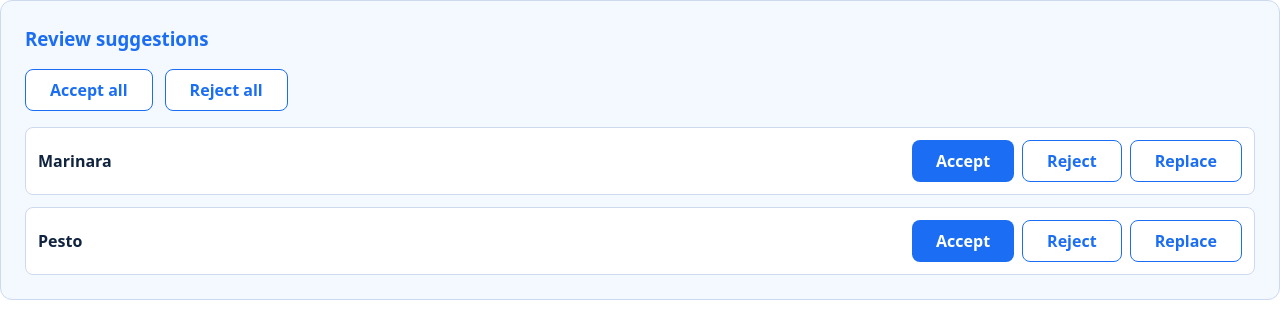
Test case: SuggestionReview per-item accept › renders each pending suggestion and accepting one turns it into an option
Expected: the text "Marinara" is shown, [38,149,112,173]
Expected: the text "Pesto" is shown, [38,229,82,253]
Click the button "Accept" in the row of "Marinara".
click(963, 161)  # box [912,140,1014,182]
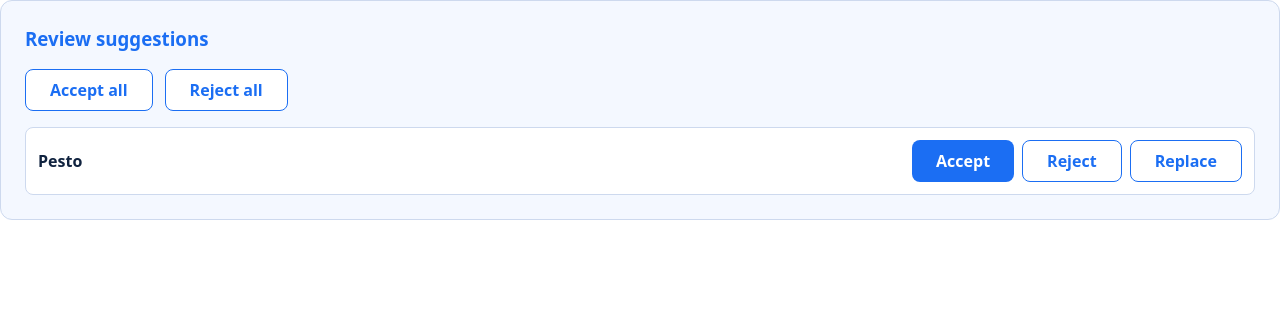
Expected: the text "Pesto" is shown, [38,149,82,173]
Expected: the text "Marinara" is gone
